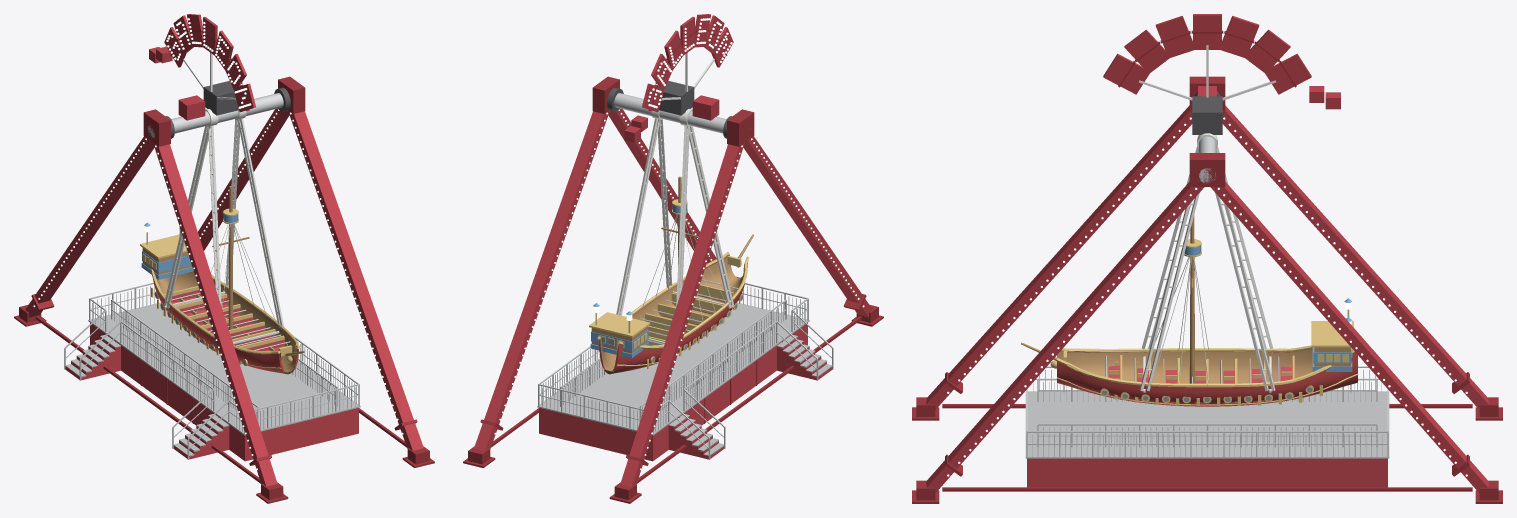
3 renders of one model, left to right at view 1: azimuth 30°, elevation 25°; view 2: azimuth 150°, elevation 25°; view 3: azimuth 270°, elevation 25°, orthographic. The views are drawn at different scales.
Parts seen in each view (by area): view 1: base, swing0; view 2: base, swing0; view 3: base, swing0.
Boxes of the visible parts, x1,y1,x2,y2 form: base: (14, 14, 434, 503); swing0: (140, 109, 304, 374); base: (463, 14, 883, 503); swing0: (589, 109, 753, 374); base: (912, 14, 1502, 503); swing0: (1021, 133, 1358, 406).
Size of the model in its own units: 8.93 by 17.5 by 21.6.
